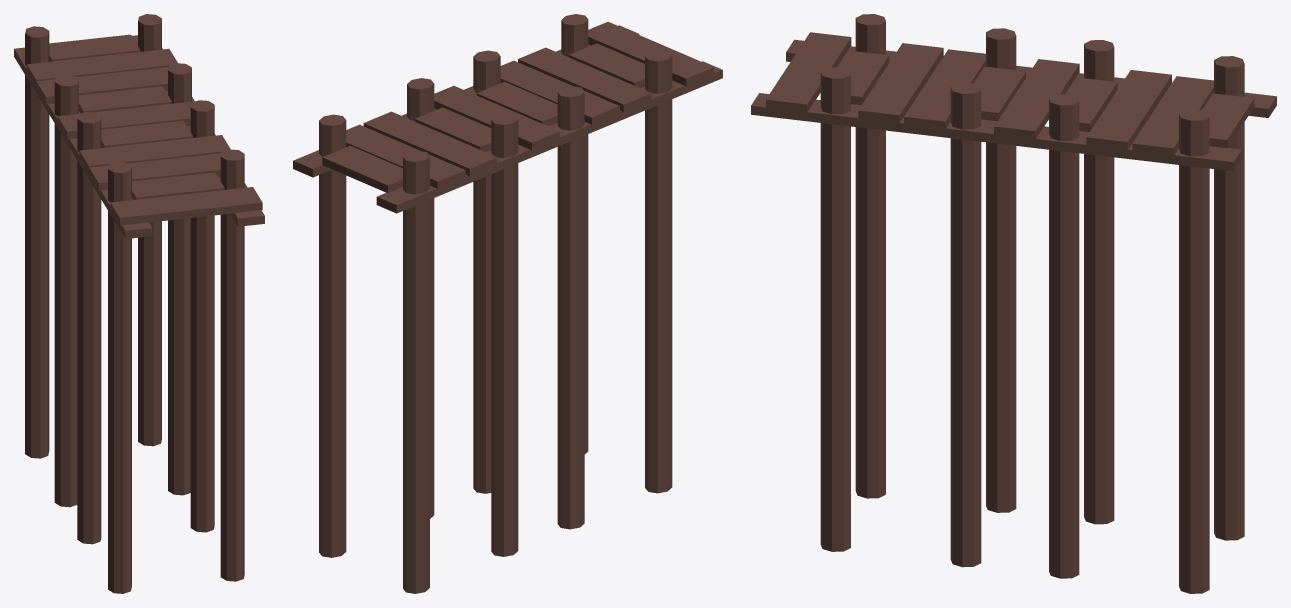
Rendered from Dock.fbx.
3 views of the same model, side by side, from view 1: azimuth 30°, elevation 25°; view 2: azimuth 150°, elevation 25°; view 3: azimuth 270°, elevation 25° (orthographic). The views are drawn at different scales.
Visible parts, largest first — view 1: Cylinder.001, Cylinder.003, Cylinder.014, Cylinder.017, Cylinder.002, Cylinder.009, Cylinder.013, Cylinder.015, Dock, Cube.008, Cube.019, Cube.016 (+9 smaller); view 2: Cylinder.001, Cylinder.017, Cylinder.002, Cylinder.015, Cylinder.014, Cylinder.009, Cube.005, Cube.018, Cube.007, Cube.016, Cylinder.013, Cylinder.003 (+8 smaller); view 3: Cylinder.009, Cylinder.015, Cylinder.003, Cylinder.013, Cylinder.014, Cylinder.001, Cylinder.002, Cylinder.017, Cube.006, Cube.007, Cube.018, Cube.016 (+8 smaller).
Part boxes in pixels (x1,y1,x2,y2): Cylinder.001: (77,112,101,544); Cylinder.003: (220,149,244,581); Cylinder.014: (25,26,49,458); Cylinder.017: (54,75,78,507); Cylinder.002: (108,161,131,593); Cylinder.009: (190,100,214,532); Cylinder.013: (168,63,191,495); Cylinder.015: (138,14,161,446); Dock: (110,187,262,225); Cube.008: (79,135,230,173); Cube.019: (26,48,177,87); Cube.016: (57,101,195,139); Cylinder.001: (557,86,584,529); Cylinder.017: (491,113,518,556); Cylinder.002: (645,50,672,493); Cylinder.015: (319,114,346,557); Cylinder.014: (403,150,429,593); Cylinder.009: (473,50,500,493); Cube.005: (376,61,722,213); Cube.018: (363,111,497,176); Cube.007: (518,47,651,112); Cube.016: (434,85,559,150); Cylinder.013: (407,78,434,518); Cylinder.003: (561,14,588,454); Cylinder.009: (950,82,981,567); Cylinder.015: (1179,109,1209,593); Cylinder.003: (820,67,850,551); Cylinder.013: (1049,94,1079,578); Cylinder.014: (1214,56,1244,540); Cylinder.001: (986,28,1016,512); Cylinder.002: (855,14,885,498); Cylinder.017: (1084,40,1114,524); Cube.006: (751,93,1241,171); Cube.007: (858,43,943,123); Cube.018: (1086,70,1171,150); Cube.016: (994,59,1079,139).
Bounding box in the file's own units: 132 × 237 × 239.
